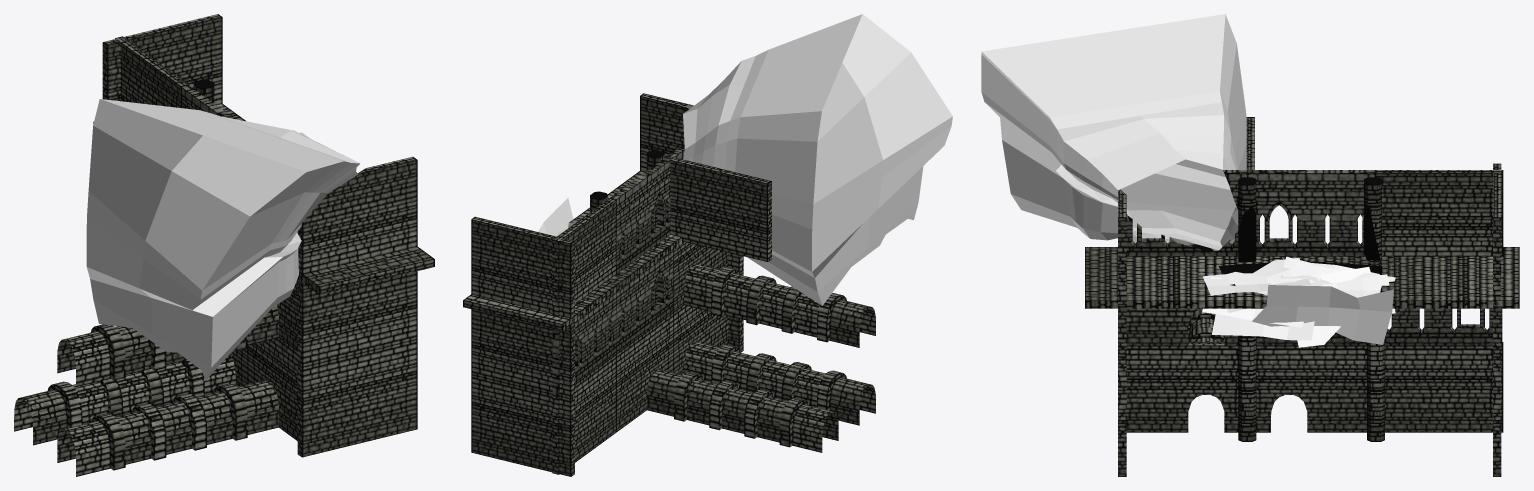
Rendered from Room_1.fbx.
3 renders of one model, left to right at view 1: azimuth 30°, elevation 25°; view 2: azimuth 150°, elevation 25°; view 3: azimuth 270°, elevation 25°, orthographic. The views are drawn at different scales.
Visible parts, largest first — view 1: Wall2.006, WallTunnel.003, Wall.016, Wall.018, Wall.017, WallTunnel.001, WallTunnel.004, Wall.012, Wall.015, Wall.013, Wall2.003; view 2: Wall2.006, WallTunnel.001, WallTunnel.004, WallTunnel.003, Wall.019, Wall.012, Wall.007, Wall.010, Wall2.003, Wall.013, Wall.009, Wall2.002 (+5 smaller); view 3: Wall2.006, Wall.013, Wall.009, WallTunnel.003, Wall2.003, WallTunnel.001, Wall.015, Wall.011, Plane.004, Wall2.004, WallTunnel.004, Wall2.005 (+19 smaller).
Part boxes in pixels (x1,y1,x2,y2): Wall2.006: (86, 99, 359, 379); WallTunnel.003: (57, 337, 297, 476); Wall.016: (297, 339, 417, 457); Wall.018: (297, 156, 417, 274); Wall.017: (297, 271, 417, 367); WallTunnel.001: (14, 348, 247, 445); WallTunnel.004: (57, 279, 297, 386); Wall.012: (102, 14, 222, 104); Wall.015: (297, 246, 434, 294); Wall.013: (115, 36, 188, 107); Wall2.003: (181, 85, 235, 119); Wall2.006: (683, 14, 952, 305); WallTunnel.001: (616, 313, 838, 452); WallTunnel.004: (673, 242, 875, 347); WallTunnel.003: (673, 305, 875, 425); Wall.019: (670, 157, 771, 261); Wall.012: (471, 216, 574, 321); Wall.007: (471, 374, 574, 476); Wall.010: (471, 309, 574, 398); Wall2.003: (610, 156, 673, 273); Wall.013: (552, 198, 616, 316); Wall.009: (552, 354, 616, 474); Wall2.002: (617, 251, 673, 353); Wall2.006: (981, 14, 1246, 250); Wall.013: (1375, 170, 1503, 256); Wall.009: (1385, 342, 1503, 432); WallTunnel.003: (1126, 308, 1238, 432); Wall2.003: (1247, 170, 1375, 256); WallTunnel.001: (1256, 346, 1366, 432); Wall.015: (1085, 247, 1230, 308); Wall.011: (1375, 247, 1519, 308); Plane.004: (1252, 285, 1393, 344); Wall2.004: (1385, 308, 1502, 346); WallTunnel.004: (1126, 308, 1238, 346); Wall2.005: (1126, 170, 1247, 256).
Size of the model in its own units: 5581 by 5822 by 8352.
